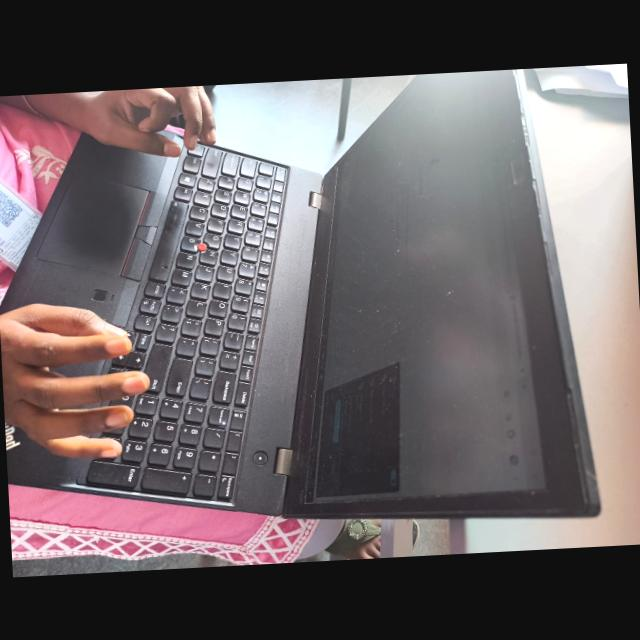laptop: (6, 67, 616, 556)
